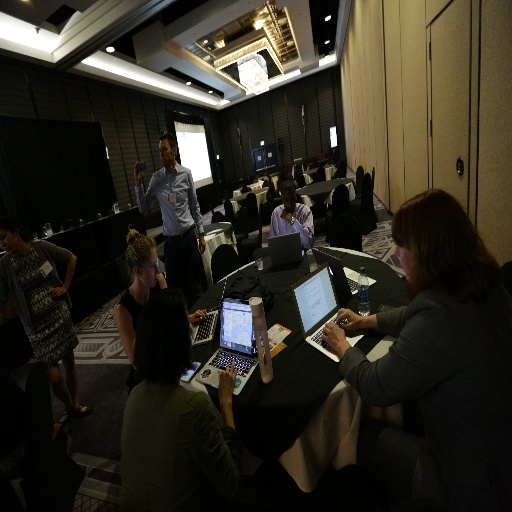hand: (216, 358, 238, 409), (322, 318, 347, 352), (335, 305, 363, 331), (189, 309, 207, 326), (133, 160, 144, 185), (279, 208, 293, 224), (47, 288, 67, 299), (197, 236, 206, 257)
